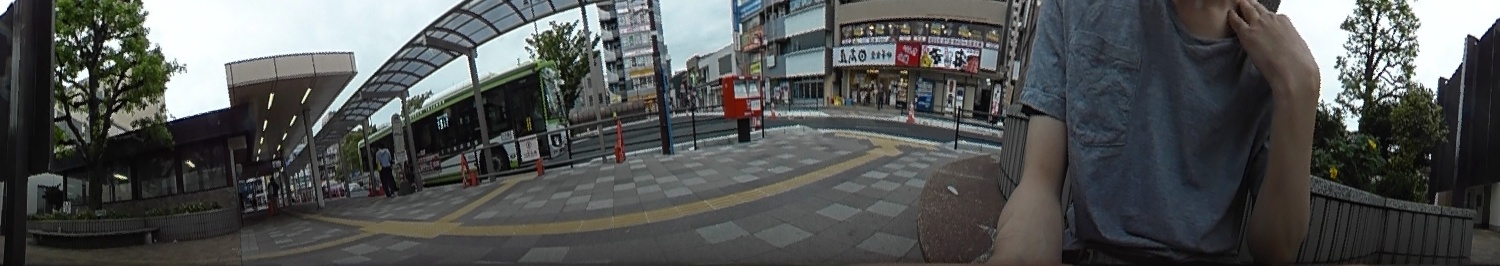difficult_person: (266, 177, 281, 211)
person: (373, 143, 398, 196)
